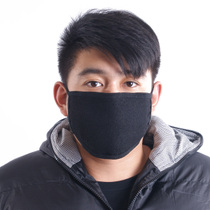face_mask: (69, 43, 151, 156)
